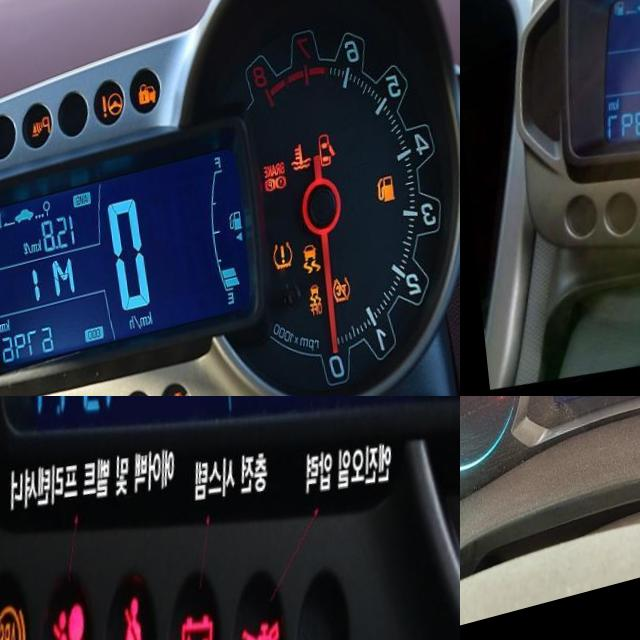Doors: (311, 152, 331, 190)
Engine cooling system: (284, 160, 306, 193)
Low fuel level: (369, 198, 390, 229)
